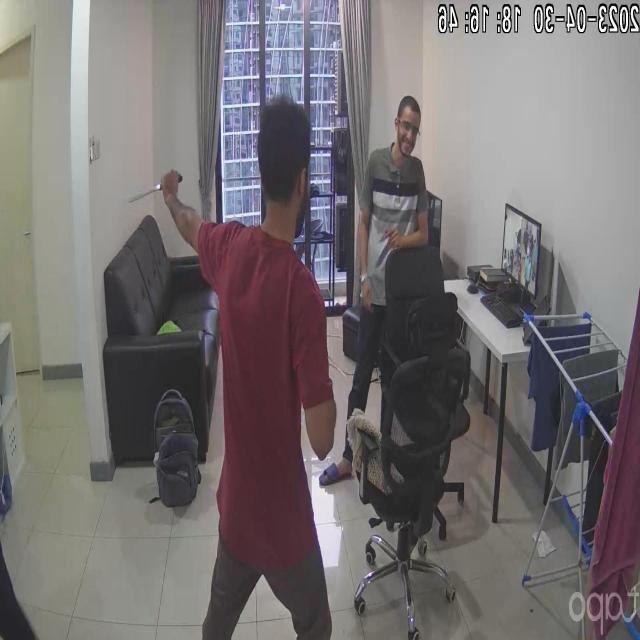Knife: (122, 175, 196, 213)
